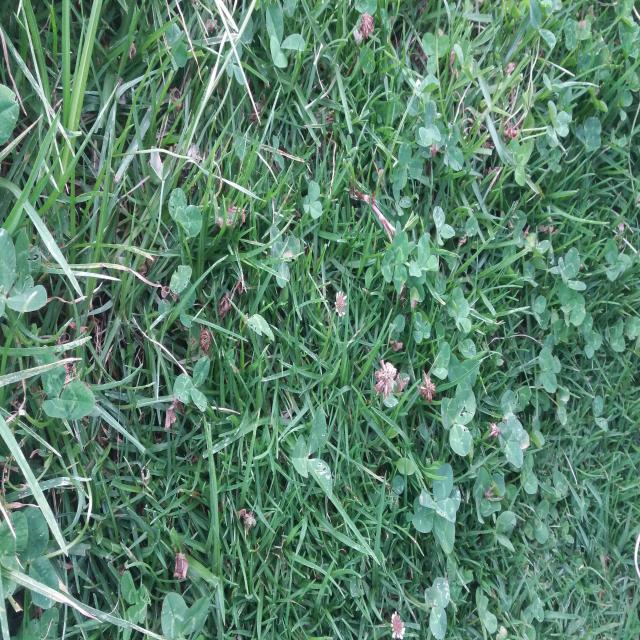Four Leaf Clover: (452, 298, 471, 333)
